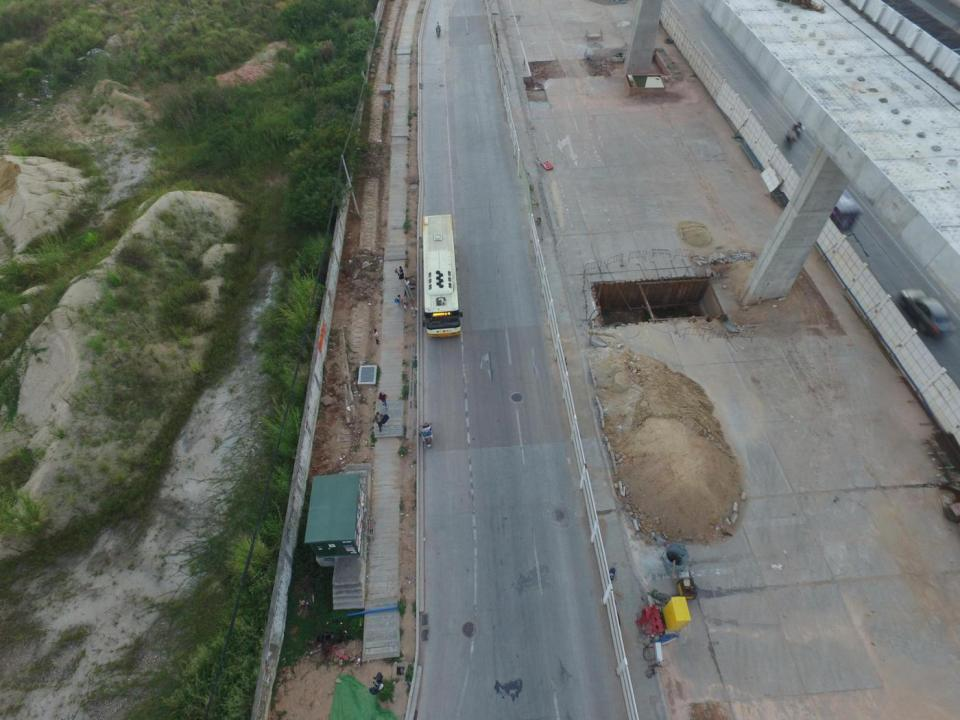bus: (422, 215, 462, 336)
car: (900, 288, 956, 342)
truck: (817, 172, 859, 234)
